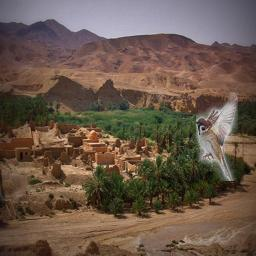Sparrow: (196, 92, 238, 181)
